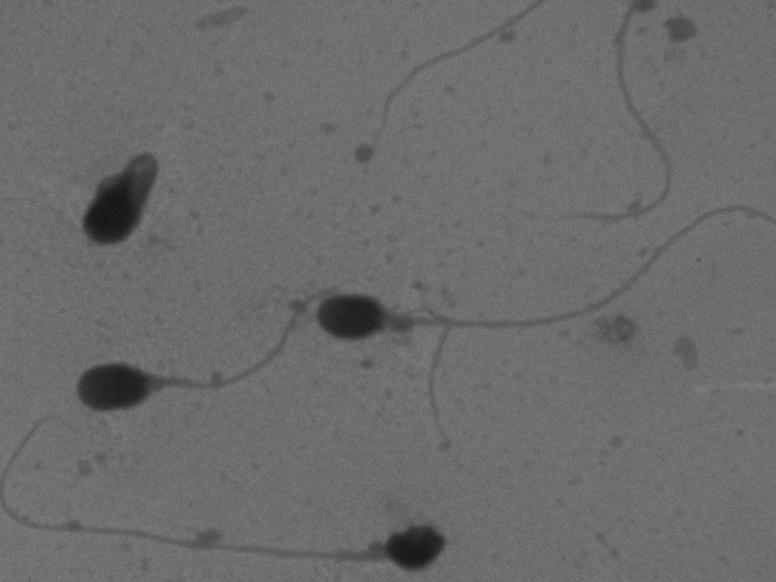Abnormal: (11, 440, 487, 574), (52, 274, 312, 429), (47, 122, 191, 258)
Normal: (298, 173, 771, 355)
